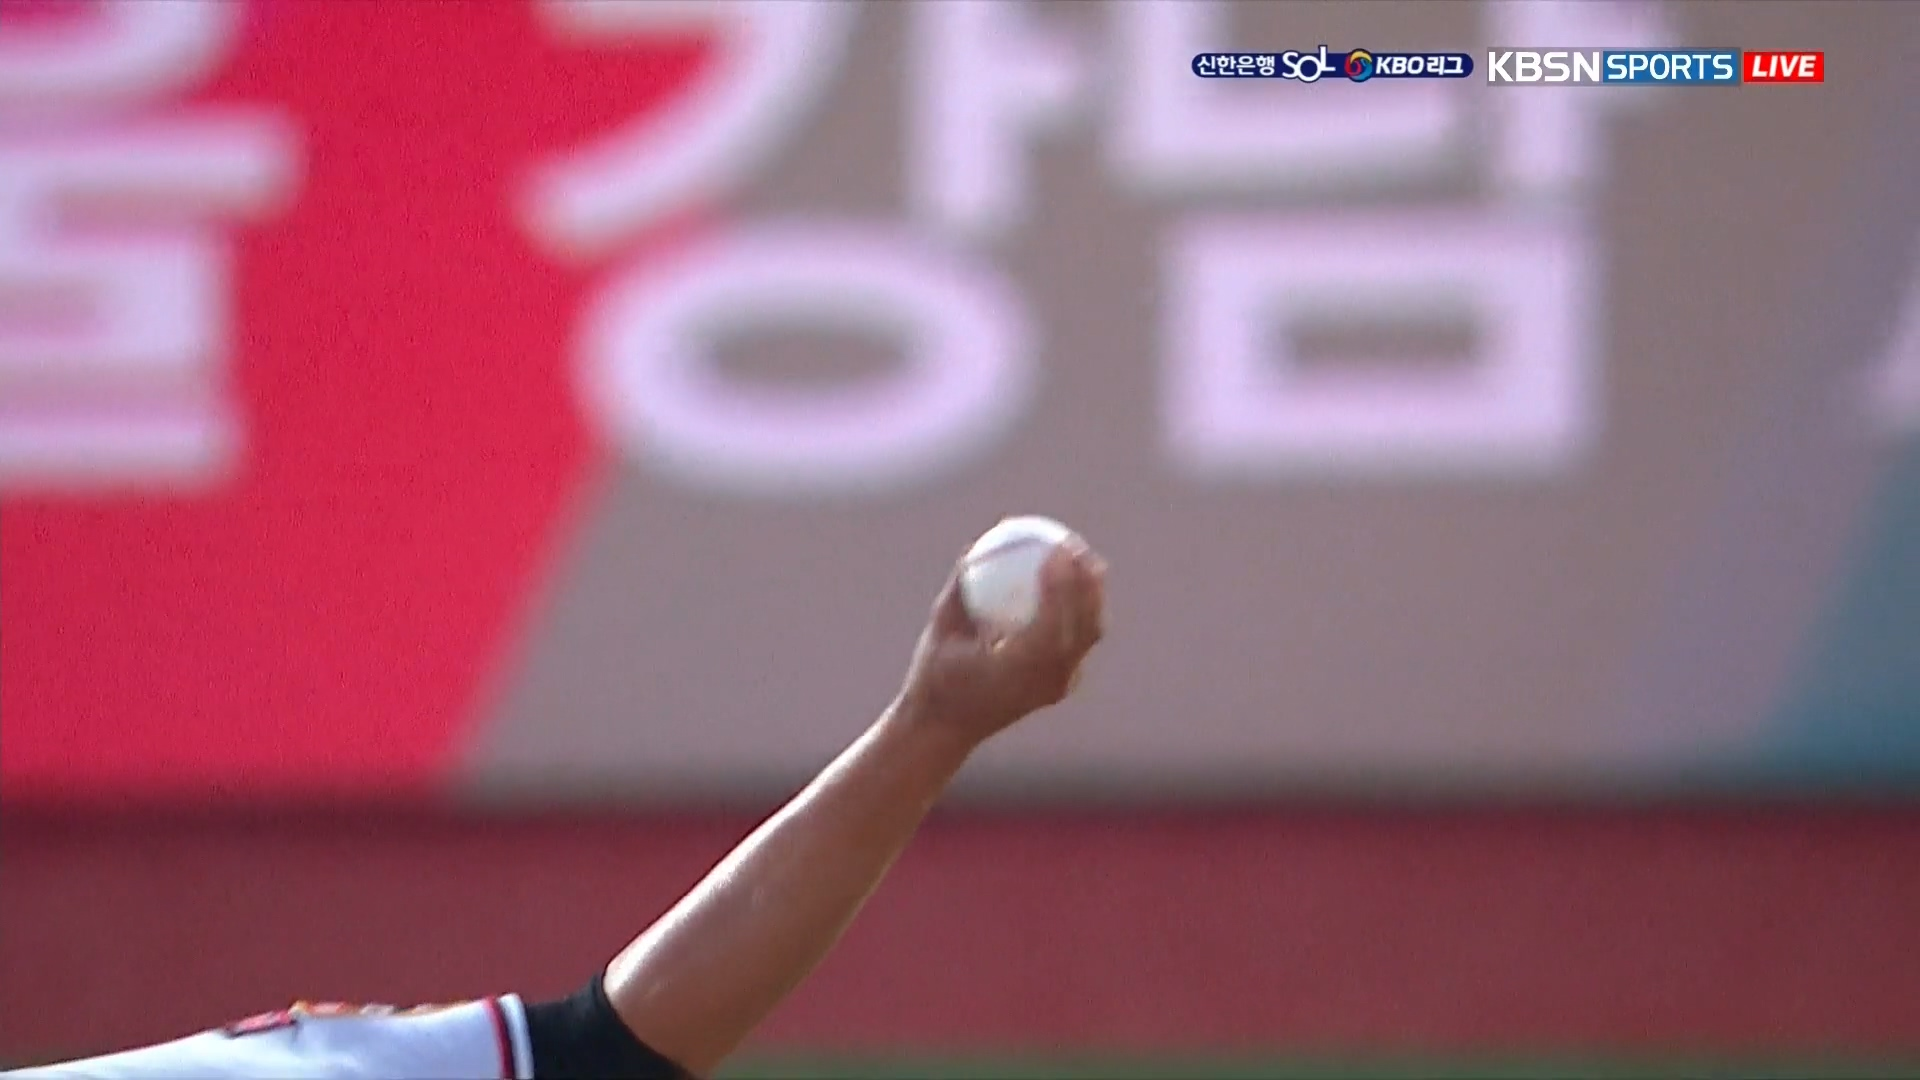zoomin_hand: (595, 508, 1125, 1076)
